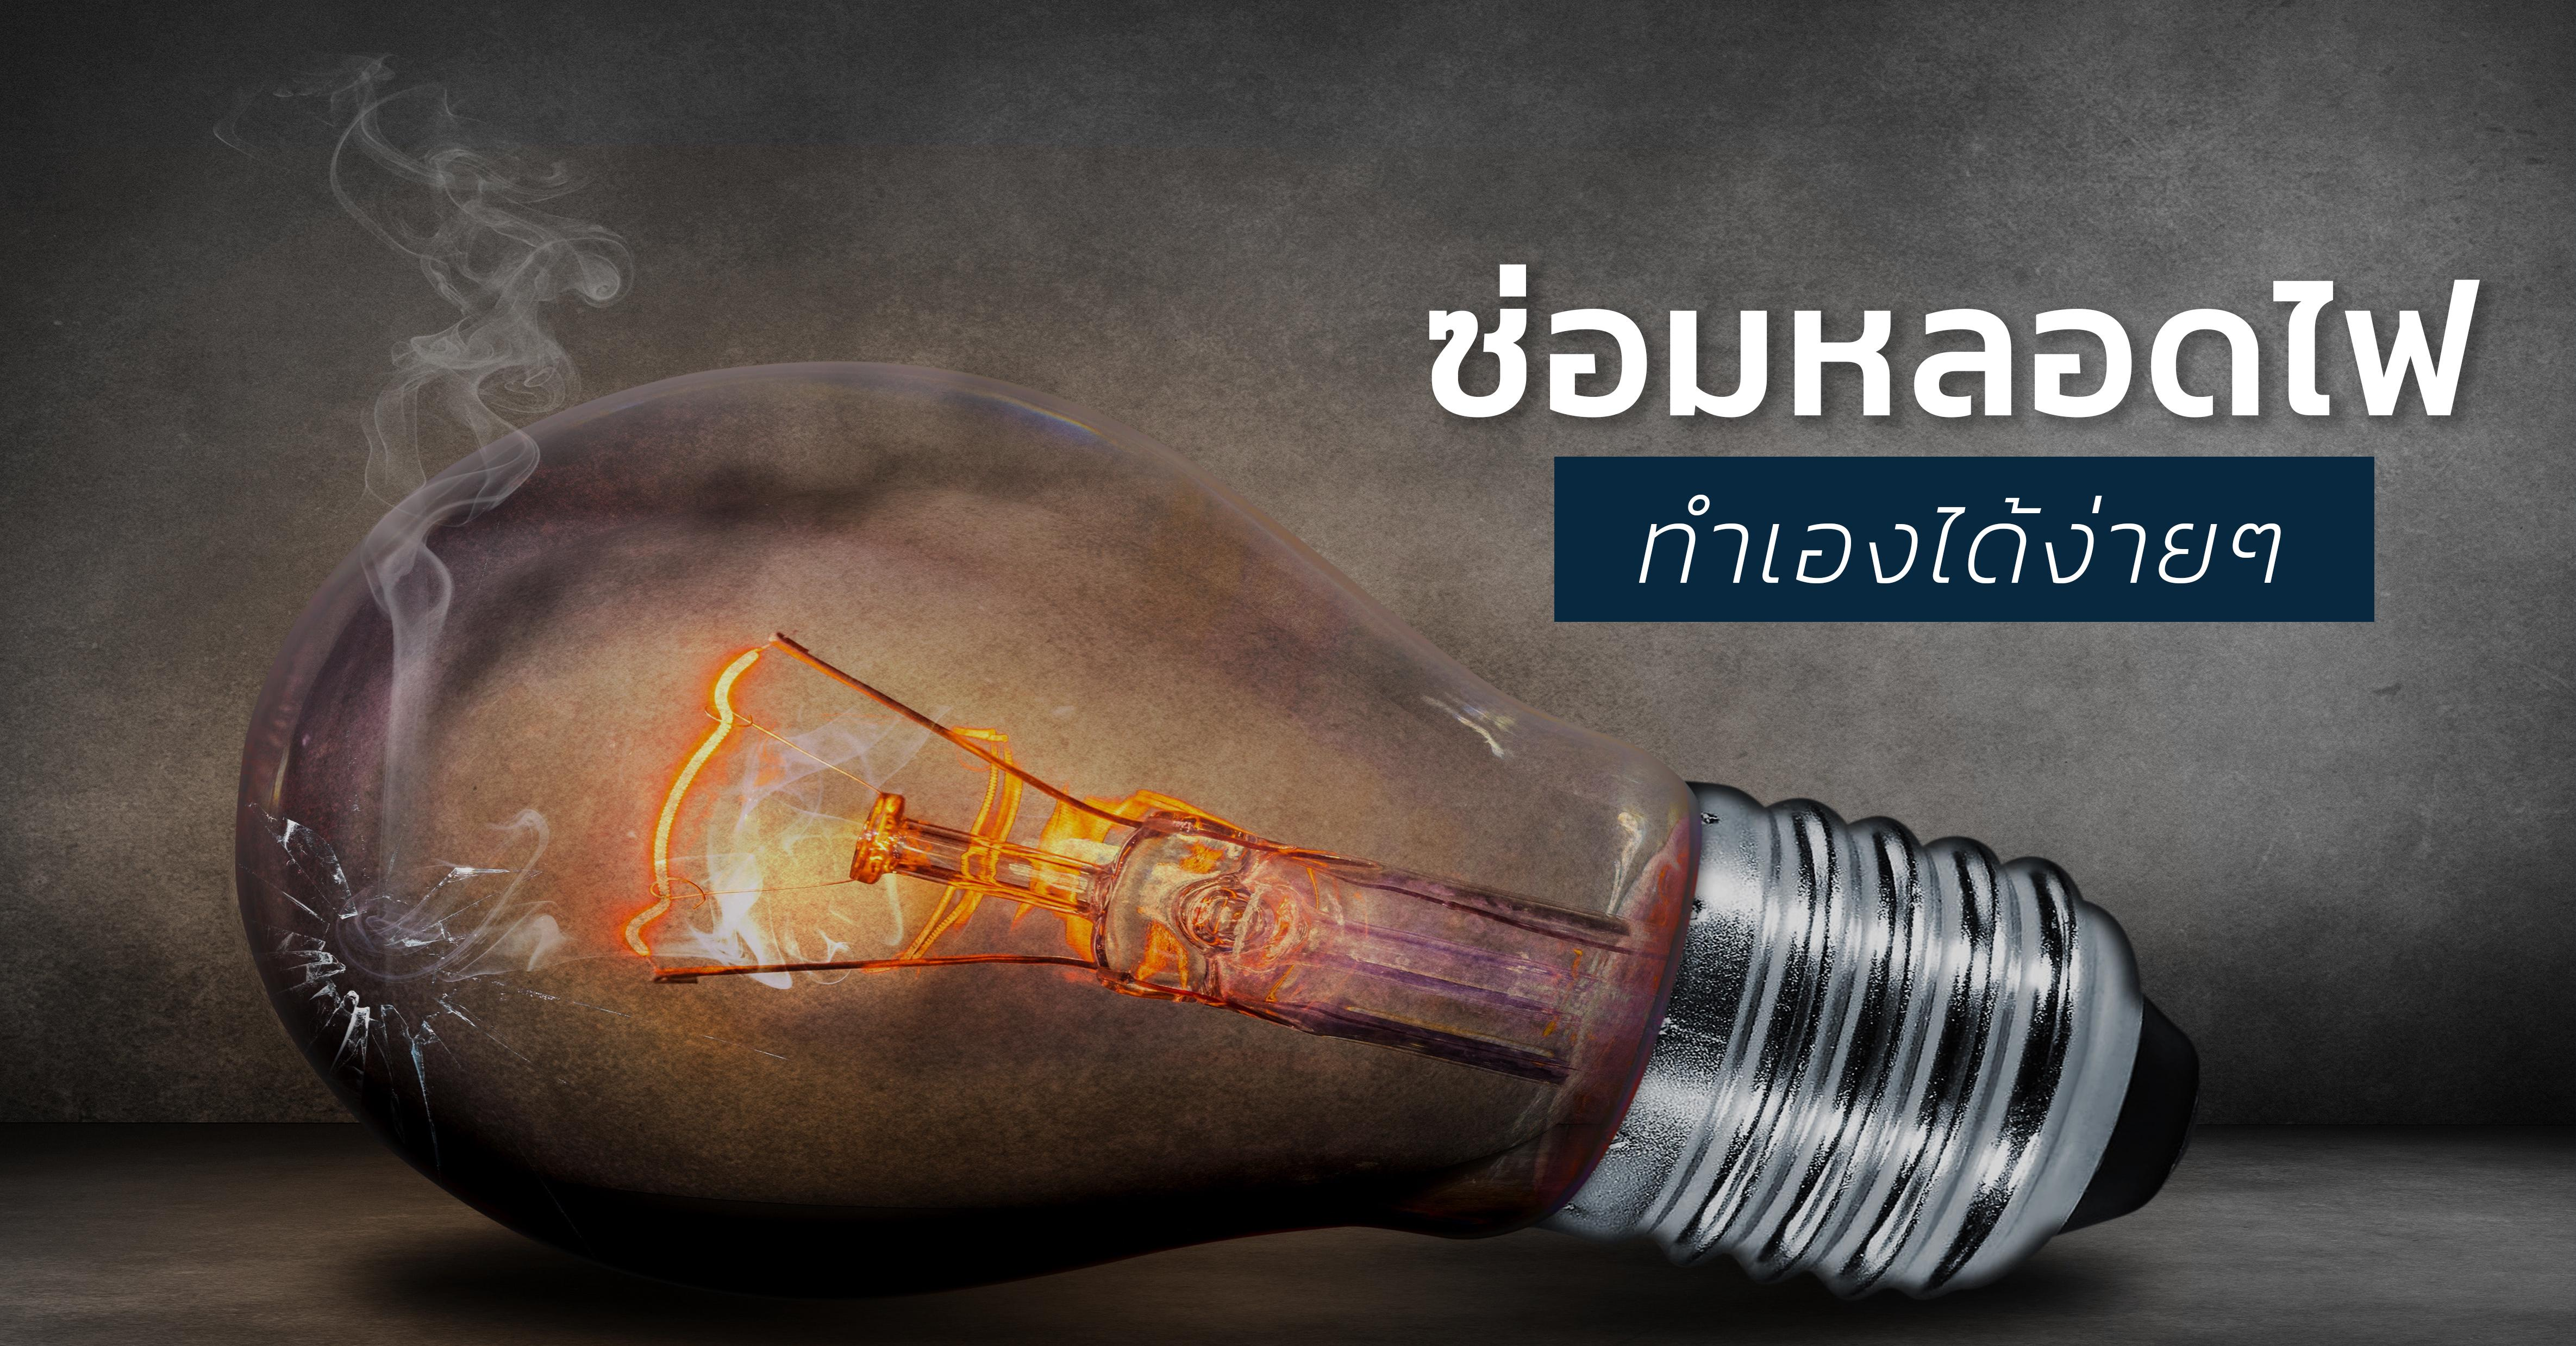Light bulb: (223, 336, 2217, 1317)
